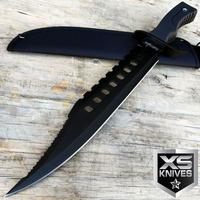knife: (5, 3, 199, 198)
